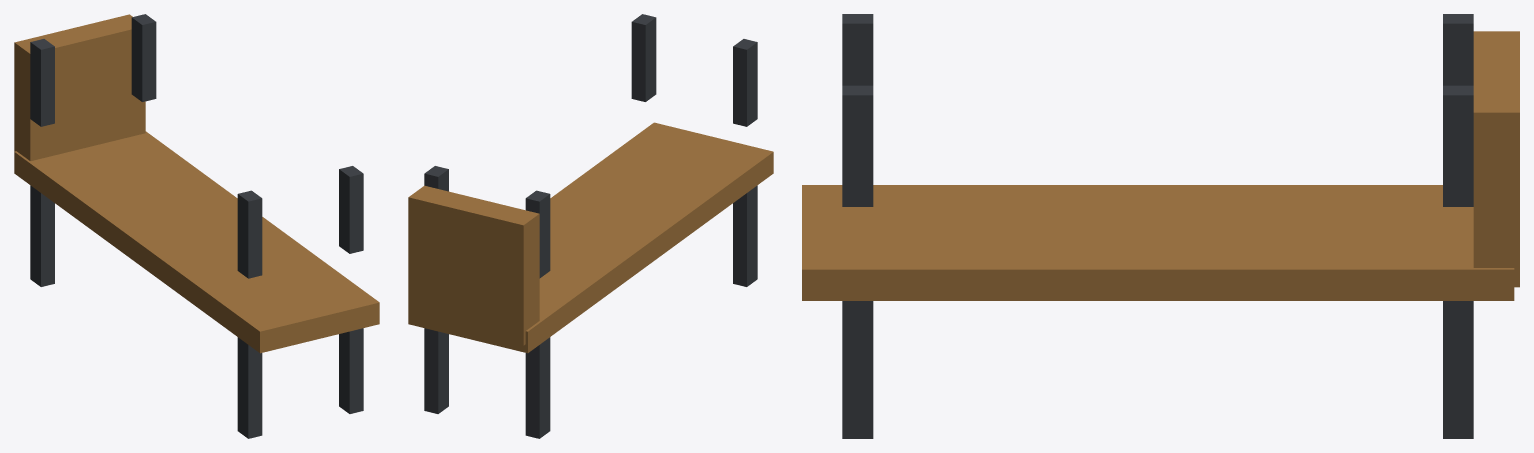
Rendered from PRP_Bench.fbx.
The picture shows the model from 3 angles, left to right: view 1: azimuth 30°, elevation 25°; view 2: azimuth 150°, elevation 25°; view 3: azimuth 270°, elevation 25°; orthographic projection. The views are drawn at different scales.
Parts seen in each view (by area): view 1: PRP_Bench__BODY; view 2: PRP_Bench__BODY; view 3: PRP_Bench__BODY.
Part boxes in pixels (box(x1,y1,x2,y2)): PRP_Bench__BODY: box(14, 14, 379, 438); PRP_Bench__BODY: box(408, 14, 773, 438); PRP_Bench__BODY: box(802, 14, 1519, 438).
Bounding box in the file's own units: 0.52 × 0.985 × 1.87.
